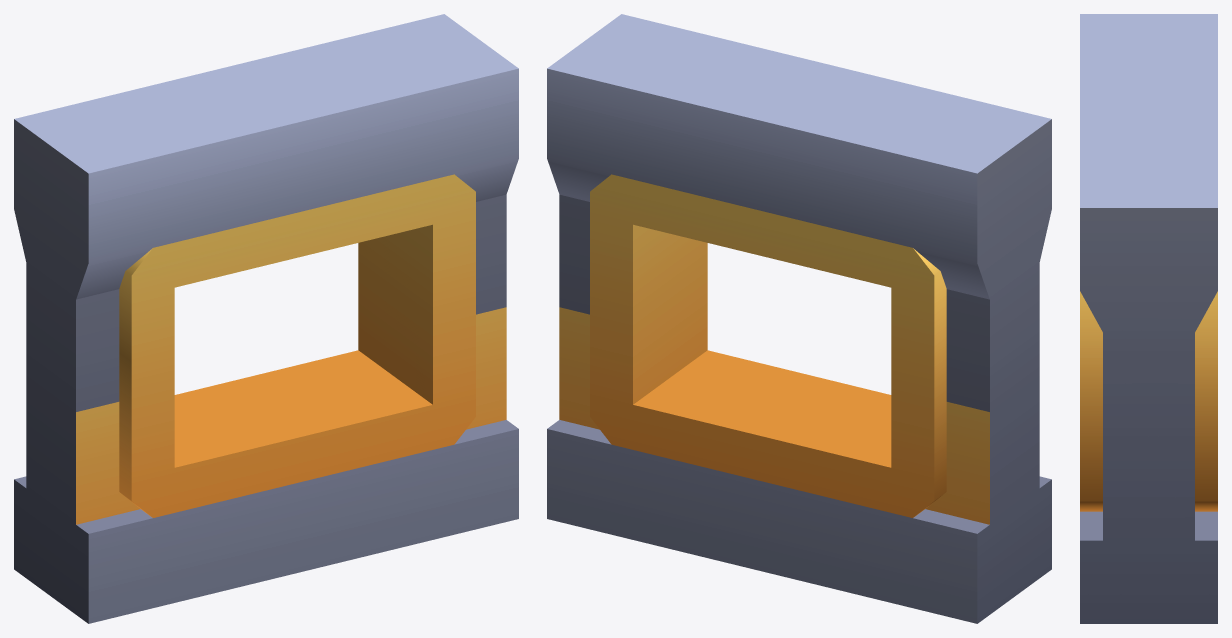
Rendered from wall-window-banner.glb.
3 renders of one model, left to right at view 1: azimuth 30°, elevation 25°; view 2: azimuth 150°, elevation 25°; view 3: azimuth 270°, elevation 25°, orthographic. The views are drawn at different scales.
Visible parts, largest first — view 1: wall-window-banner; view 2: wall-window-banner; view 3: wall-window-banner.
Part boxes in pixels (left/top/right/bottom): wall-window-banner: left=14, top=14, right=518, bottom=623; wall-window-banner: left=547, top=14, right=1051, bottom=623; wall-window-banner: left=1080, top=14, right=1217, bottom=623.
Size of the model in its own units: 1 by 1 by 0.3.
Materials: 1 (1 with a texture image).
